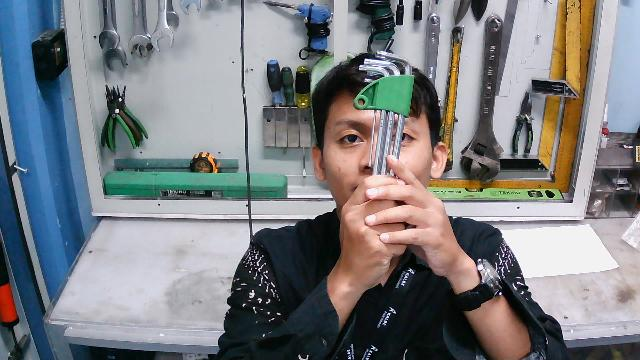kunci_l_bintang: (352, 47, 420, 221)
